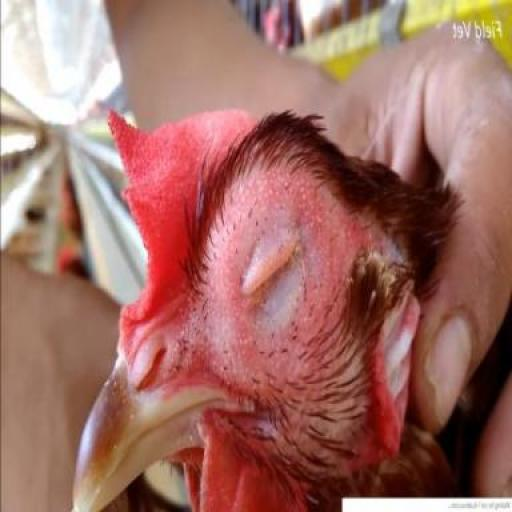disease: (201, 160, 348, 392)
